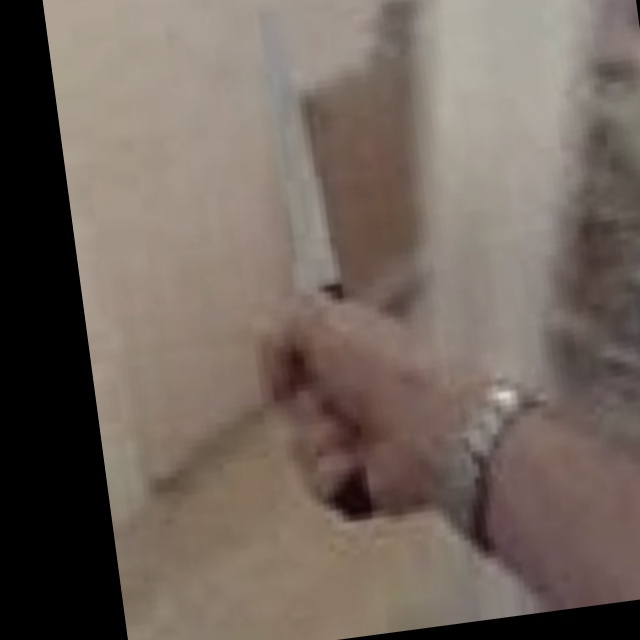Sharp-Object: (252, 9, 376, 530)
